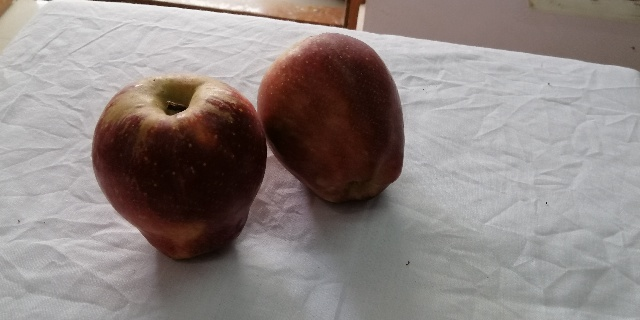apple_kashmir: (96, 71, 267, 261), (254, 34, 405, 205)
